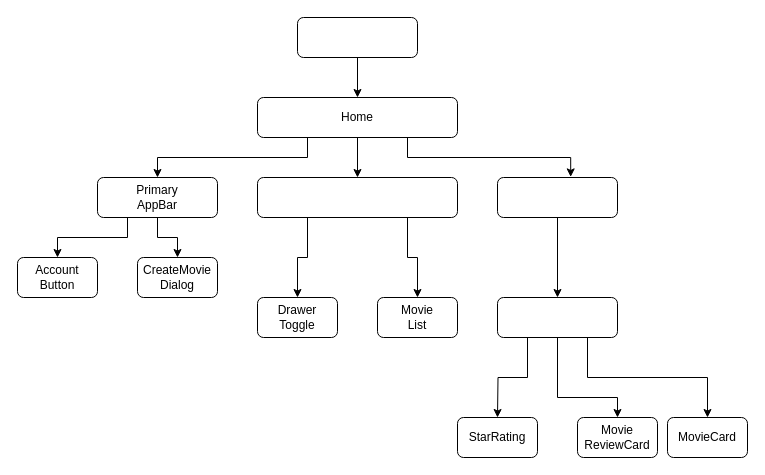
This 765x475 diagram has some shape labels left out. The box of each missing label's shape, as (x1, y1, x2, y2) in pixels:
App: (296, 16, 418, 58)
Main: (496, 176, 618, 218)
movie detail: (496, 296, 618, 338)
PrimaryDraw: (256, 176, 458, 218)
